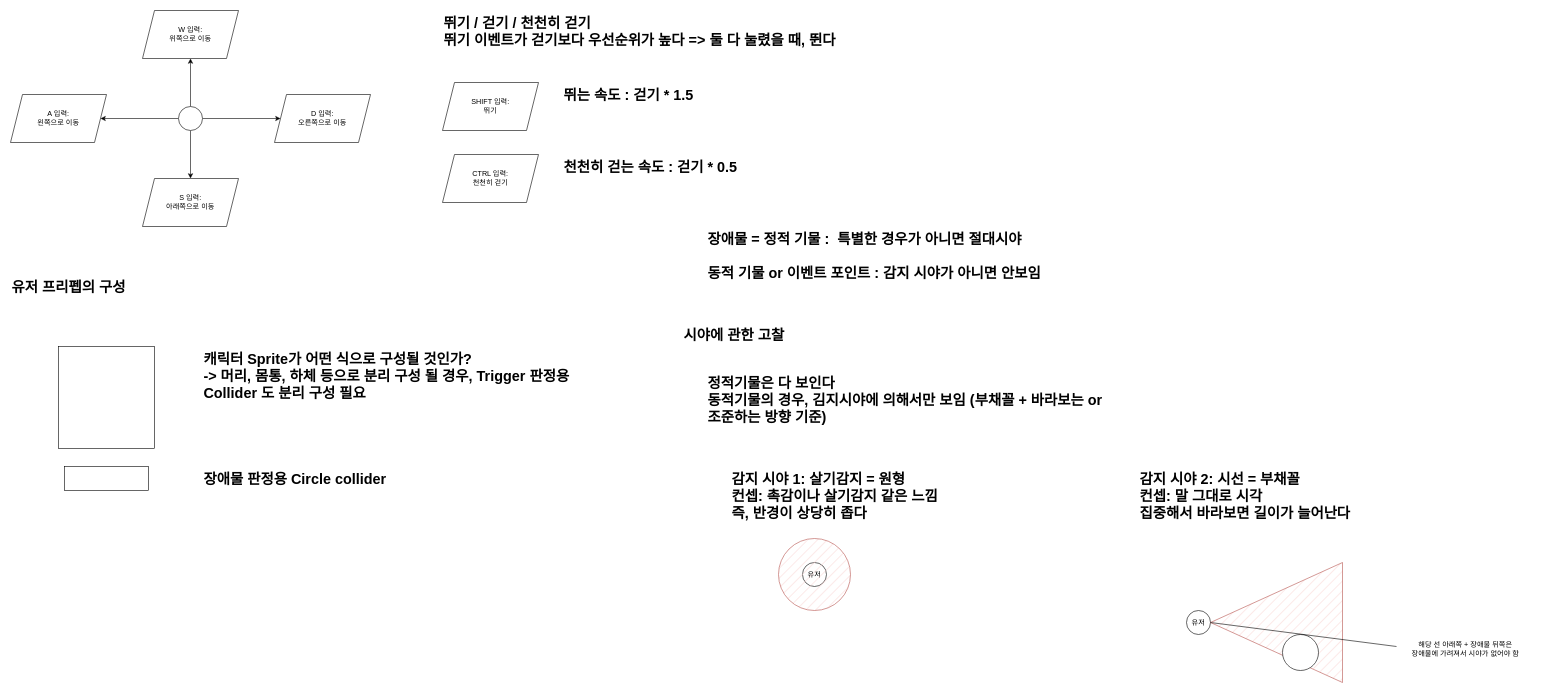
This 1545x693 diagram has some shape labels left out. Each missing label, with the centre of its shape:
"장애물" goes at pixel 1300 652.
"장애물 판정용 Circle colldier" goes at pixel 106 478.
"캐릭터 Sprite" goes at pixel 106 397.
